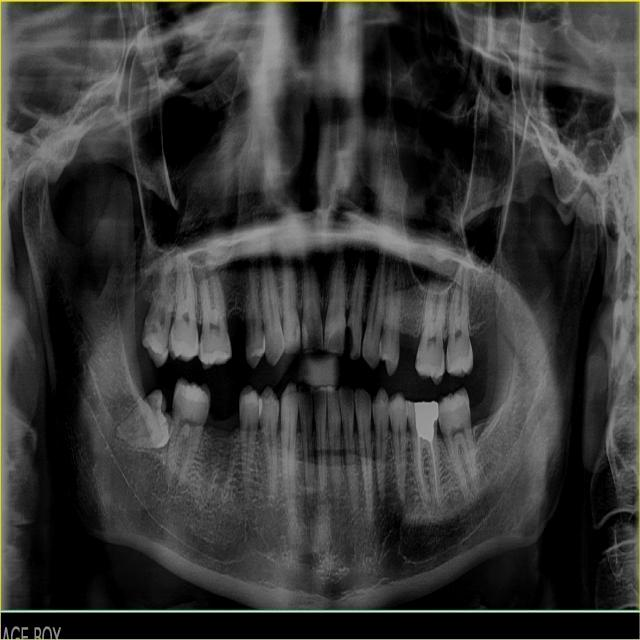Caries: (347, 323, 353, 355)
Filling: (414, 400, 438, 441), (302, 324, 309, 348), (294, 323, 301, 346)
Missing teeth: (204, 393, 240, 438), (226, 310, 248, 361), (397, 332, 425, 371)
Root Canal Treatment: (429, 440, 438, 502), (418, 435, 426, 494)
impacted tooth: (114, 389, 174, 449)
